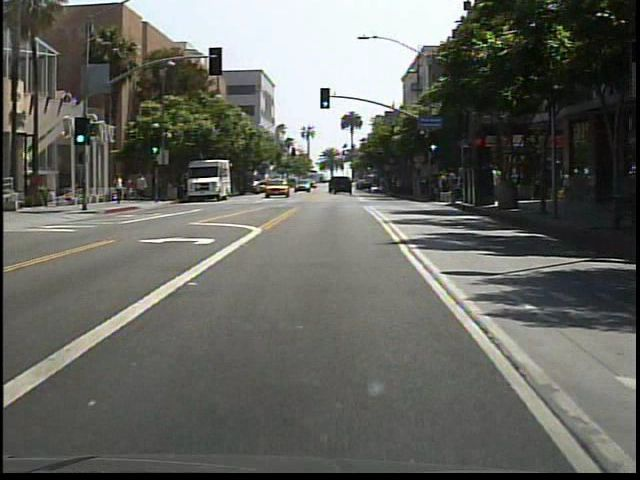person: (114, 173, 127, 208), (137, 172, 151, 202), (63, 184, 78, 208), (125, 176, 137, 202)
